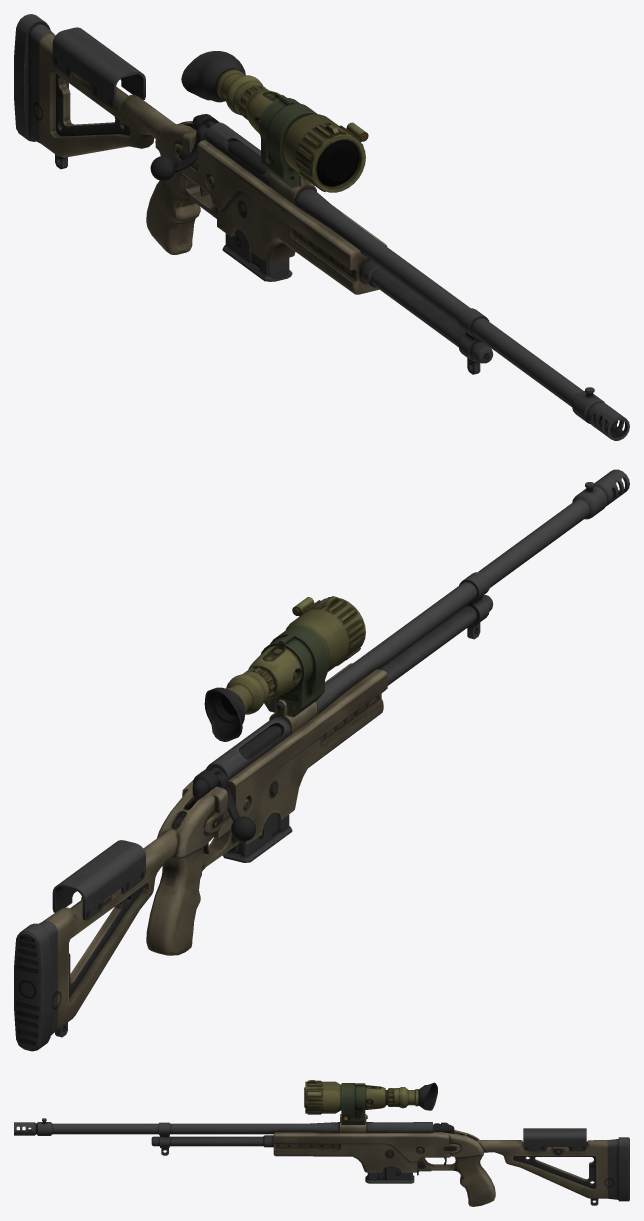
File: sniper_2.glb
3 renders of one model, top to bottom at view 1: azimuth 30°, elevation 25°; view 2: azimuth 150°, elevation 25°; view 3: azimuth 270°, elevation 25°, orthographic. The views are drawn at different scales.
Parts seen in each view (by area): view 1: base, scope, bolt, clip; view 2: base, scope, bolt, clip; view 3: base, scope, clip.
Boxes of the visible parts, left/top/right/bottom form: base: left=14, top=14, right=629, bottom=440; scope: left=181, top=51, right=368, bottom=192; bolt: left=150, top=121, right=267, bottom=180; clip: left=222, top=229, right=292, bottom=281; base: left=14, top=469, right=629, bottom=1051; scope: left=204, top=596, right=365, bottom=741; bolt: left=209, top=726, right=281, bottom=841; clip: left=222, top=812, right=292, bottom=862; base: left=14, top=1114, right=629, bottom=1206; scope: left=304, top=1080, right=437, bottom=1124; clip: left=365, top=1165, right=414, bottom=1183.
Size of the model in its own units: 12.16 by 33.58 by 151.
1 material, 1 textured.
